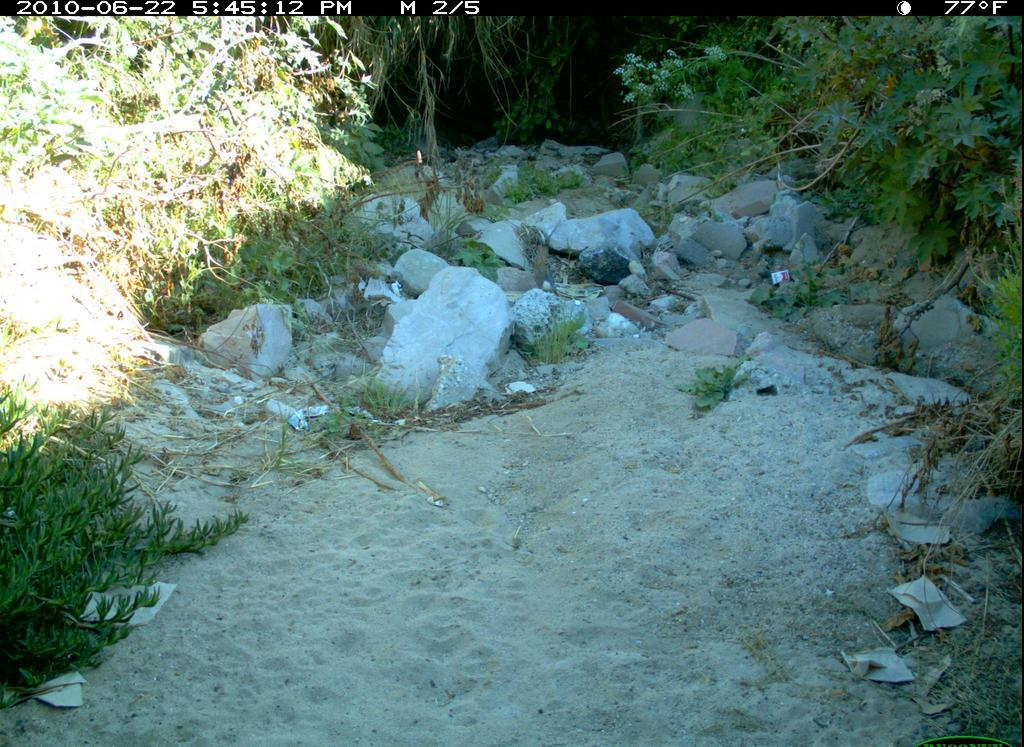rabbit: (528, 241, 563, 297)
